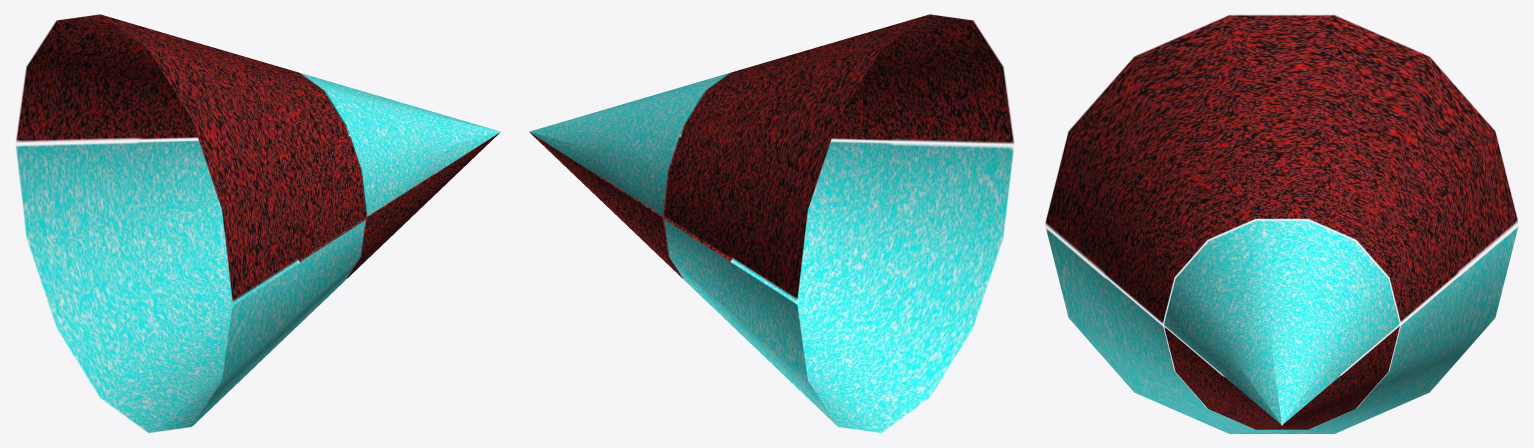
3 renders of one model, left to right at view 1: azimuth 30°, elevation 25°; view 2: azimuth 150°, elevation 25°; view 3: azimuth 270°, elevation 25°, orthographic. The views are drawn at different scales.
Parts seen in each view (by area): view 1: SM_VFX_Cone_112_LOD0; view 2: SM_VFX_Cone_112_LOD0; view 3: SM_VFX_Cone_112_LOD0.
Boxes of the visible parts, box(x1,y1,x2,y2) form: SM_VFX_Cone_112_LOD0: box(16, 14, 500, 432); SM_VFX_Cone_112_LOD0: box(529, 14, 1013, 432); SM_VFX_Cone_112_LOD0: box(1045, 15, 1518, 433).
Bounding box in the file's own units: 2 × 1.95 × 2.
1 material, 1 textured.
